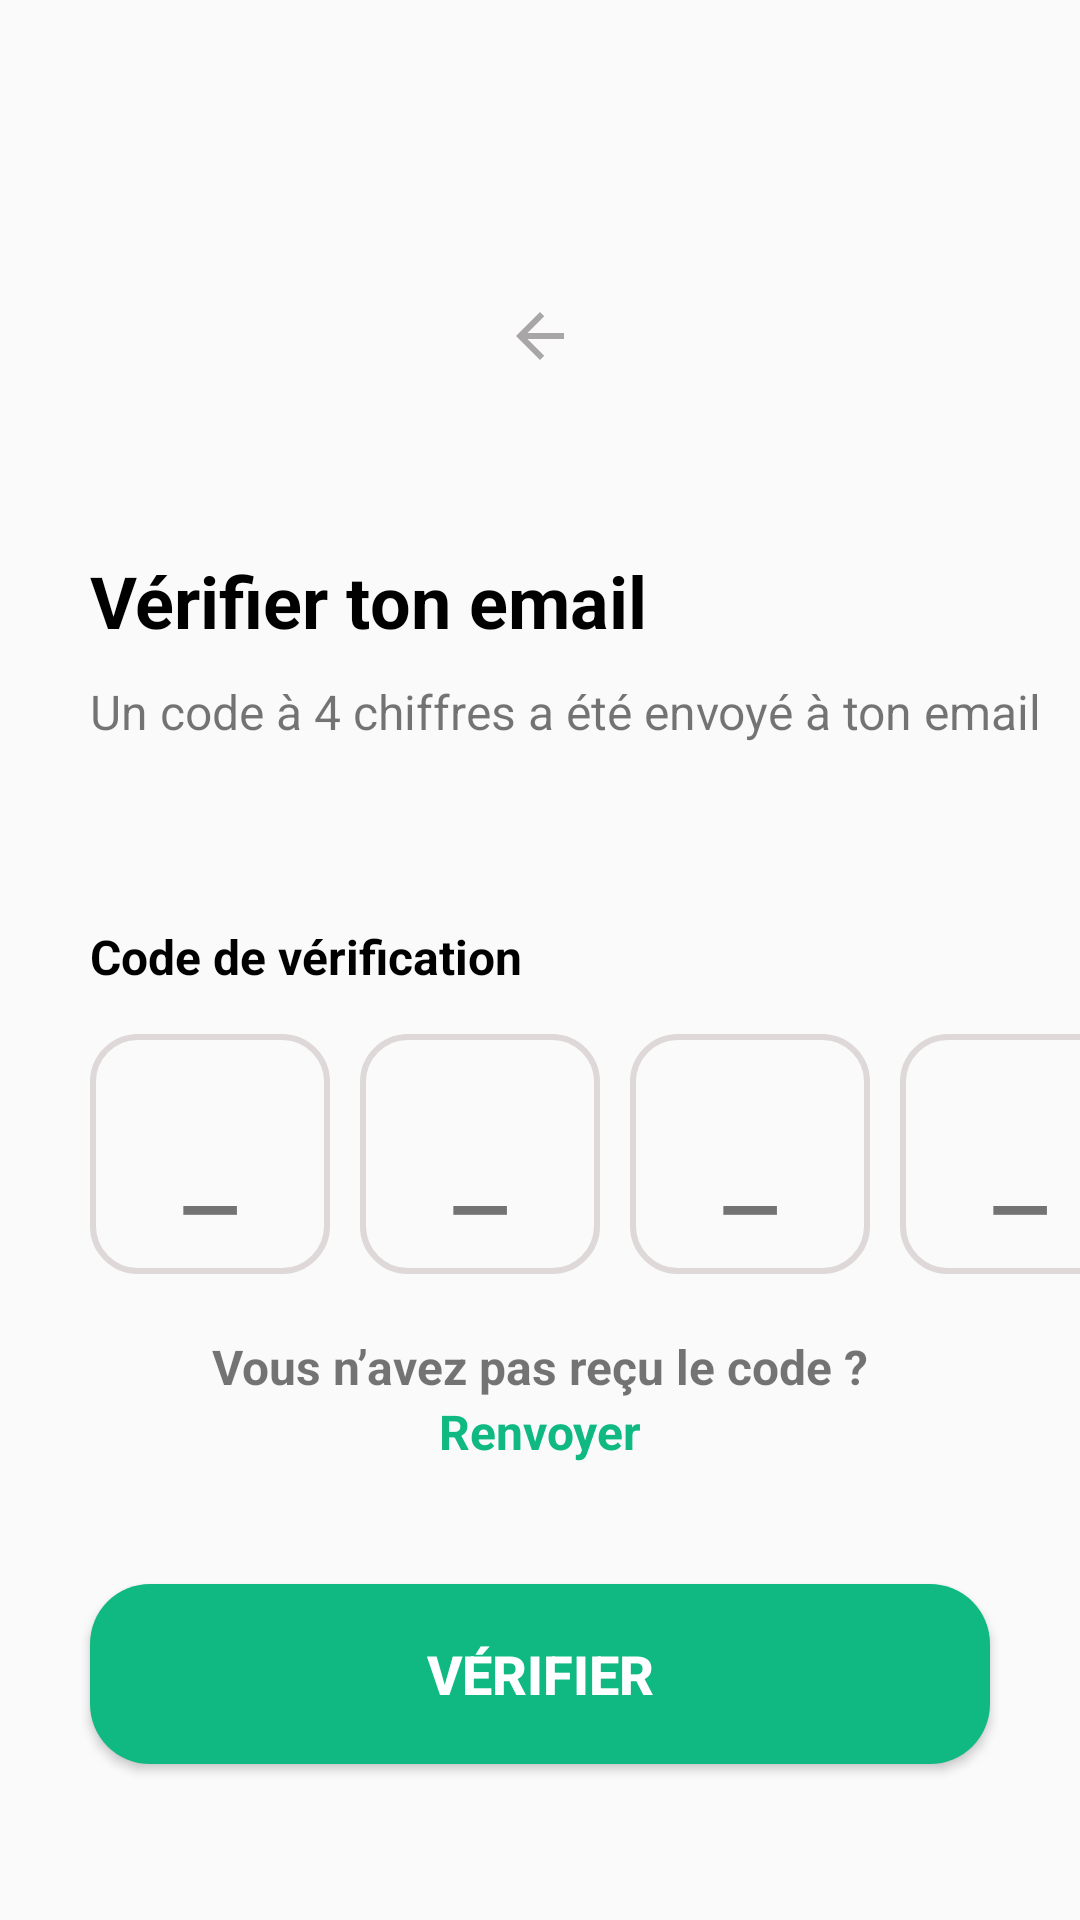

Named icons in this screenshot (1080x1920) and their centers, [x,y]:
arrow back: [540,336]
